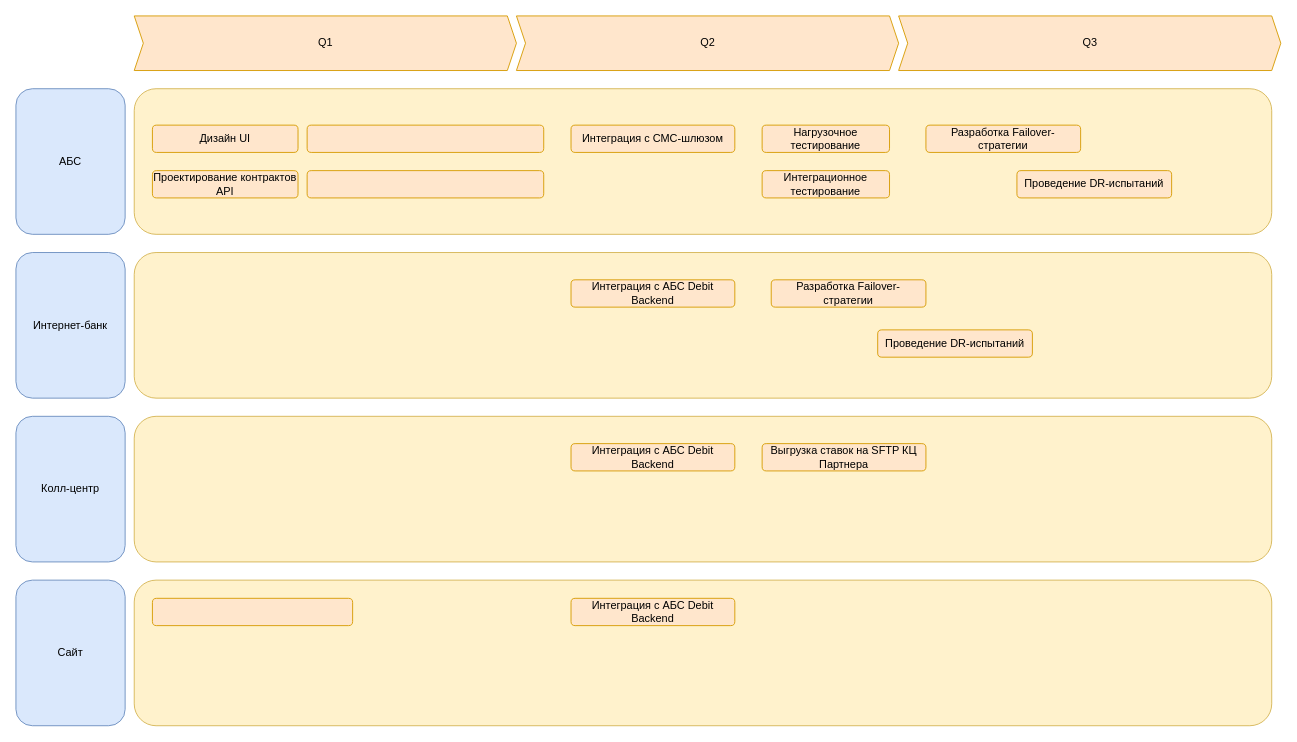
Image size: 1297x742. Some labels were removed from this diagram. The shapes that lost their labels are listed below. From the top down, each one's centre as x and y in pixels, then its label:
At point 425,138: "Разработка Backend для дебетовых продуктов".
At point 425,184: "Разработка UI для дебетовых продуктов".
At point 252,611: "Интеграция с колл-центром".
